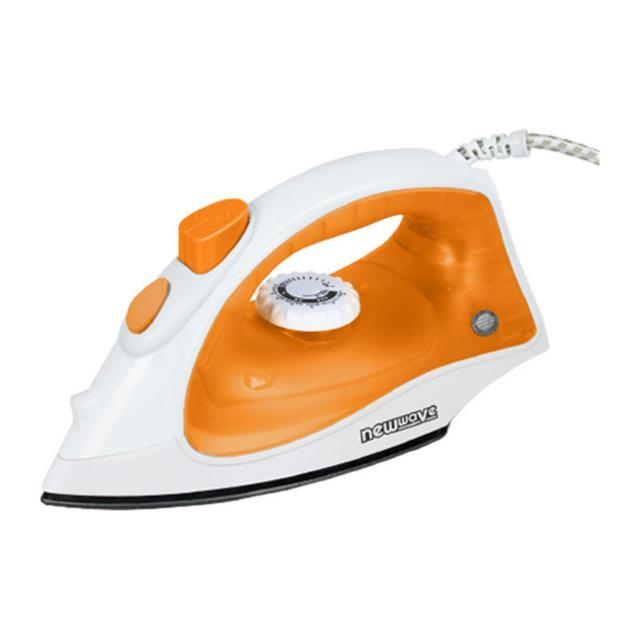Clothes-Iron: (31, 129, 565, 519)
